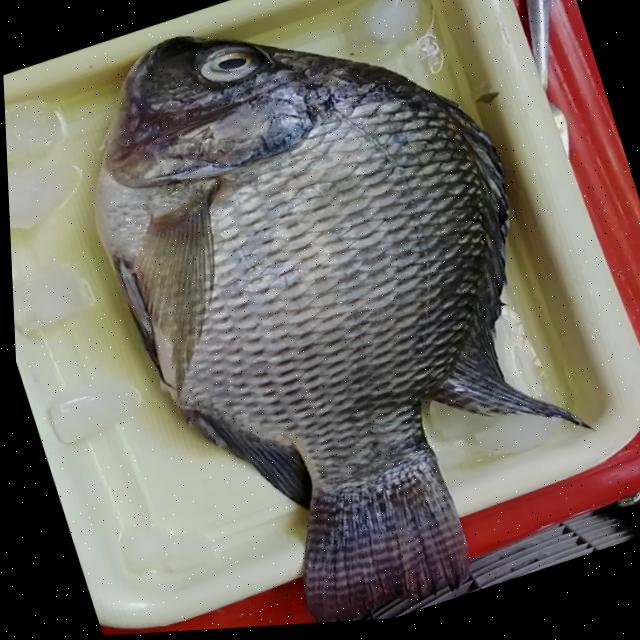Fresh: (80, 17, 640, 636), (183, 26, 290, 110)
